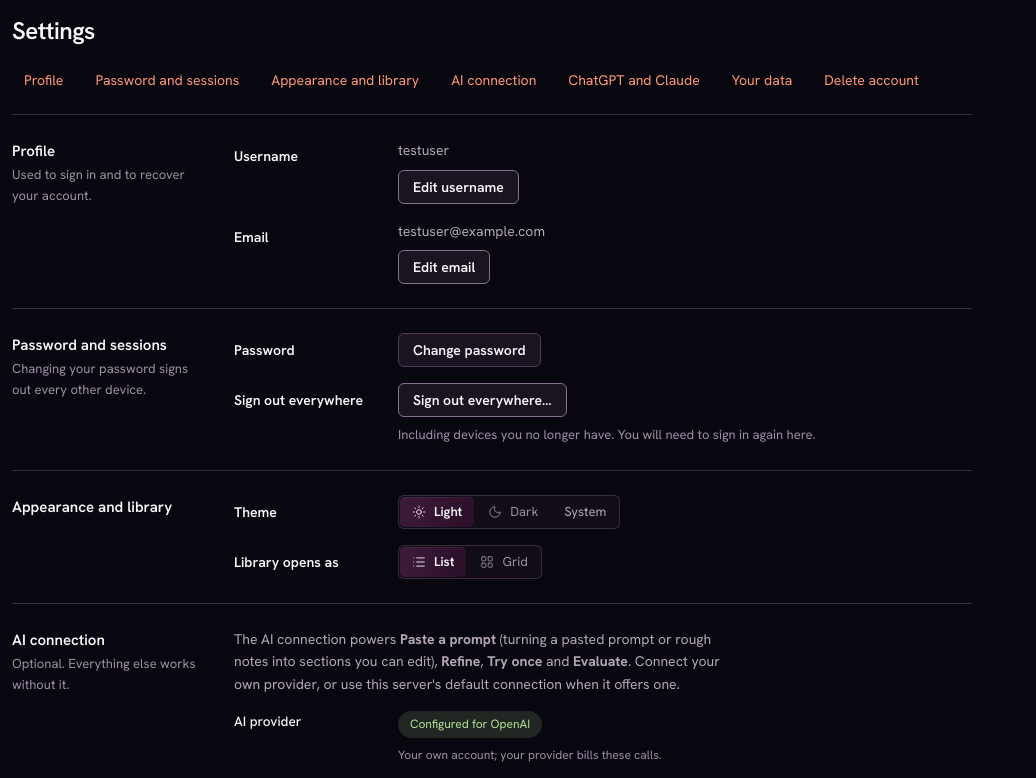
SettingsPage › reports a failed sign-out-everywhere and stays signed in
Click the button "Sign out everywhere…" at (482, 400), box 398,383 -> 567,417
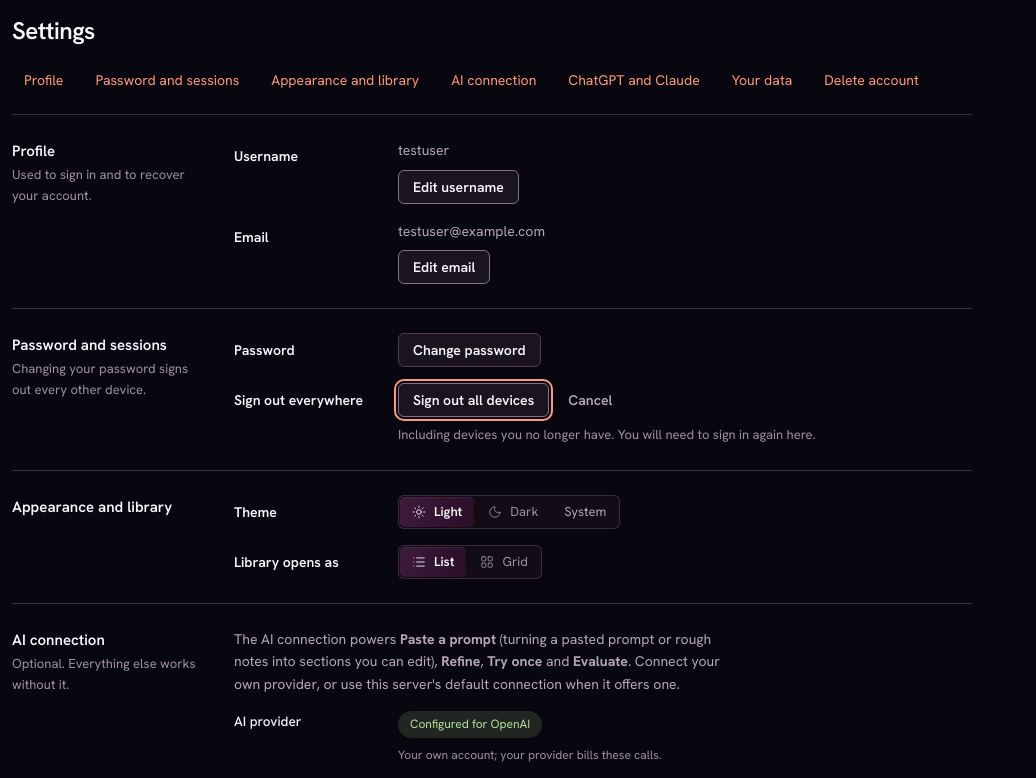
Click the button "Sign out all devices" at (474, 400), box 398,383 -> 549,417
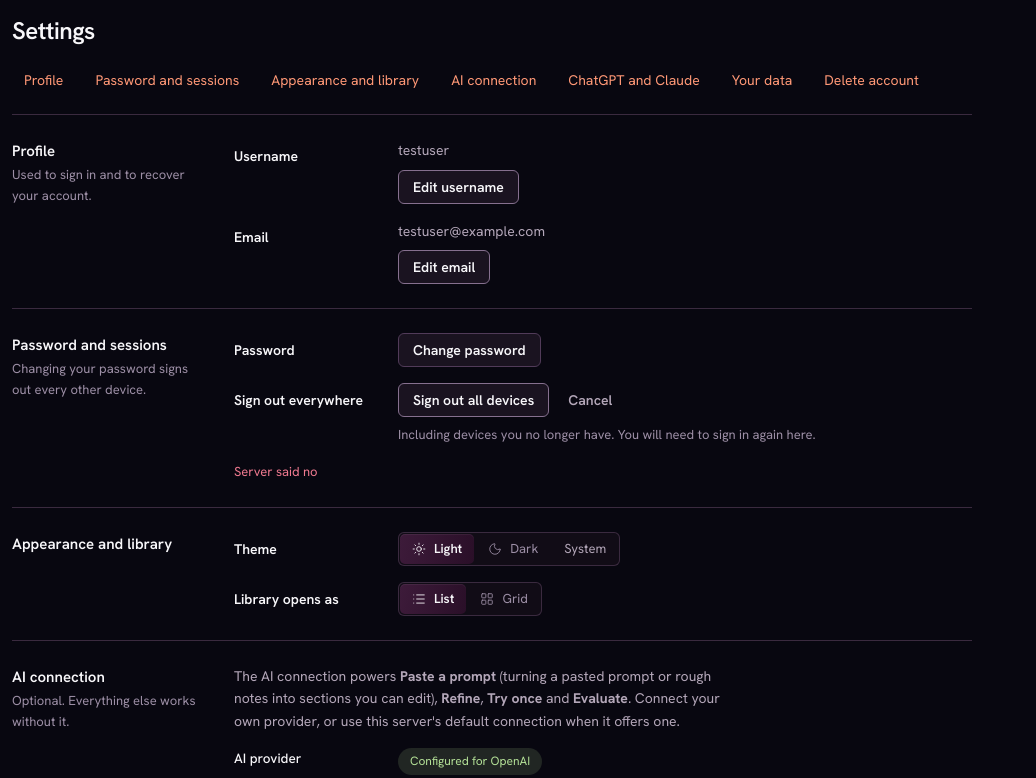
Expected: the message reads "Server said no", 234,463 -> 318,480
